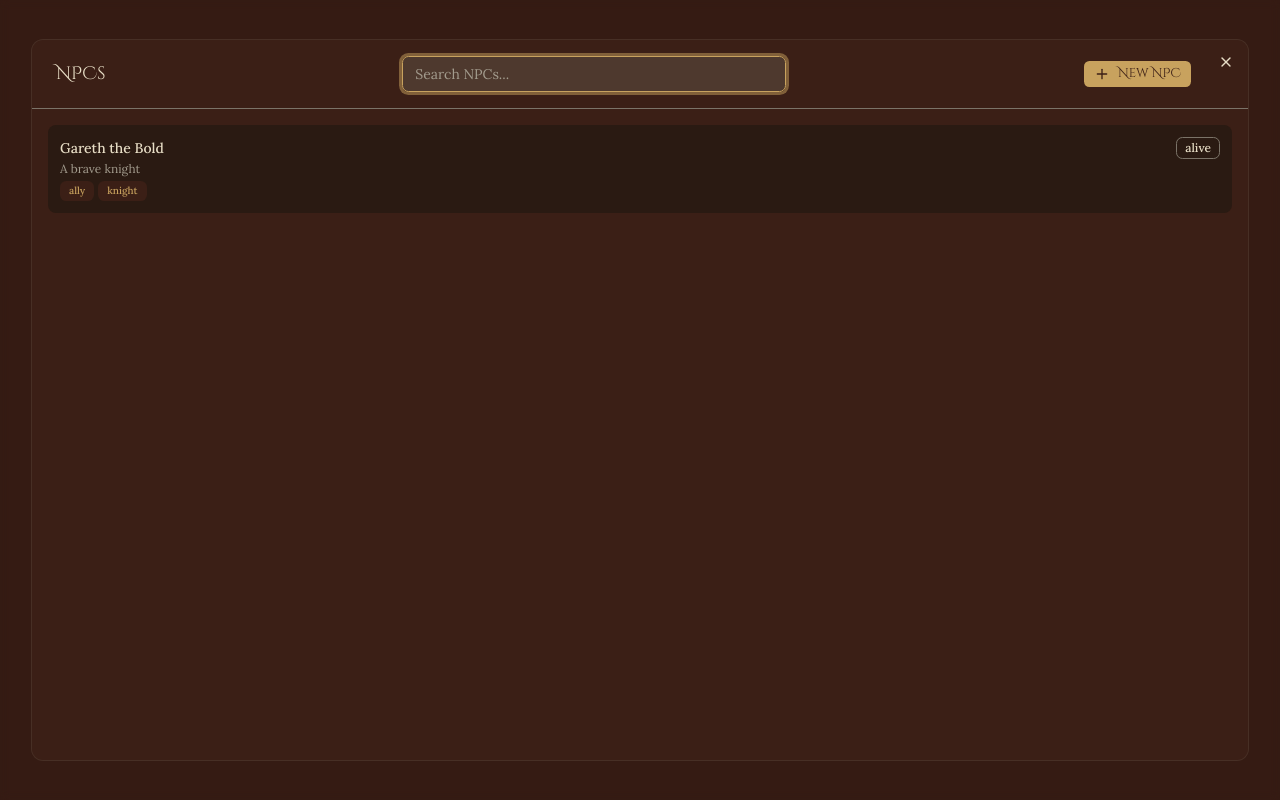
Test: NpcModal › NPC Detail - Tabs › switches to Relationships tab and shows relations
The image size is (1280, 800).
Click the text "Gareth the Bold" at {"x": 112, "y": 148}, box [60,138,164,158]
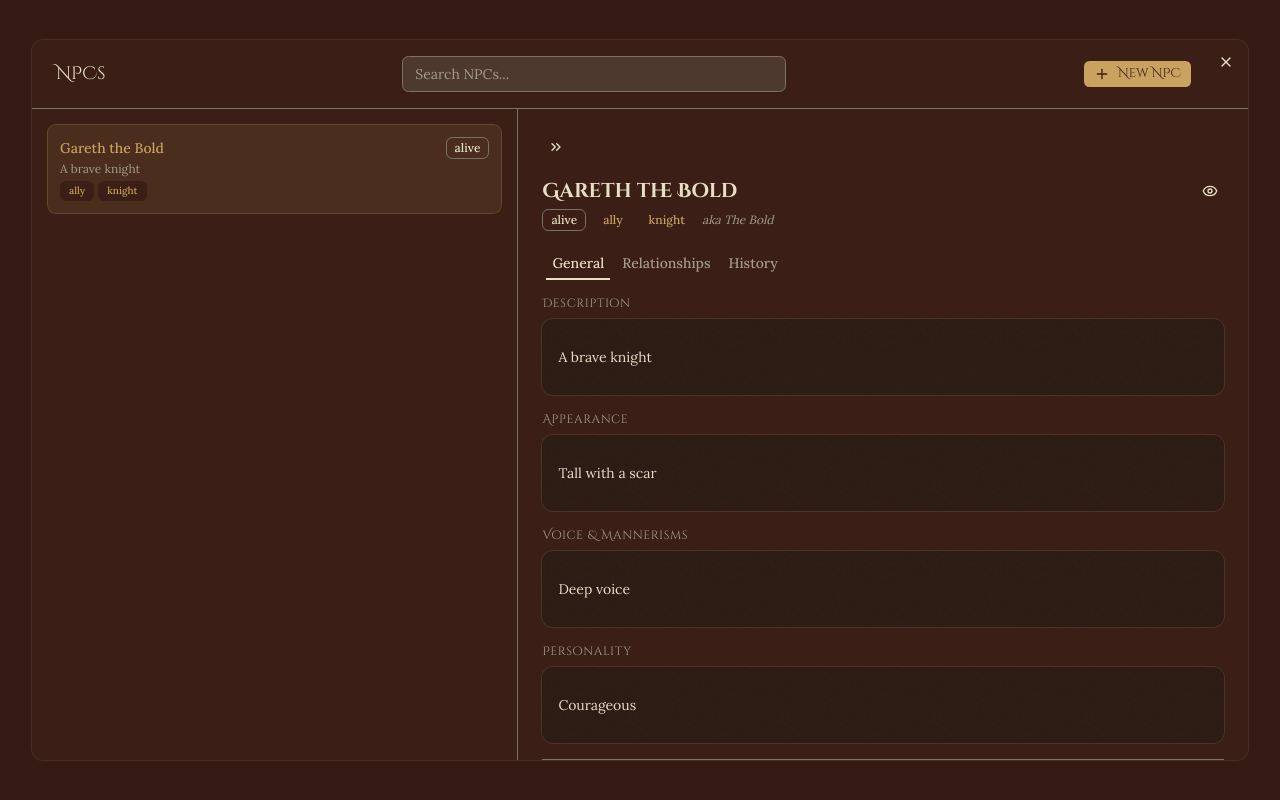
Check: the tab "Relationships" is shown
Click the tab "Relationships" at {"x": 666, "y": 263}, box [615,250,718,276]
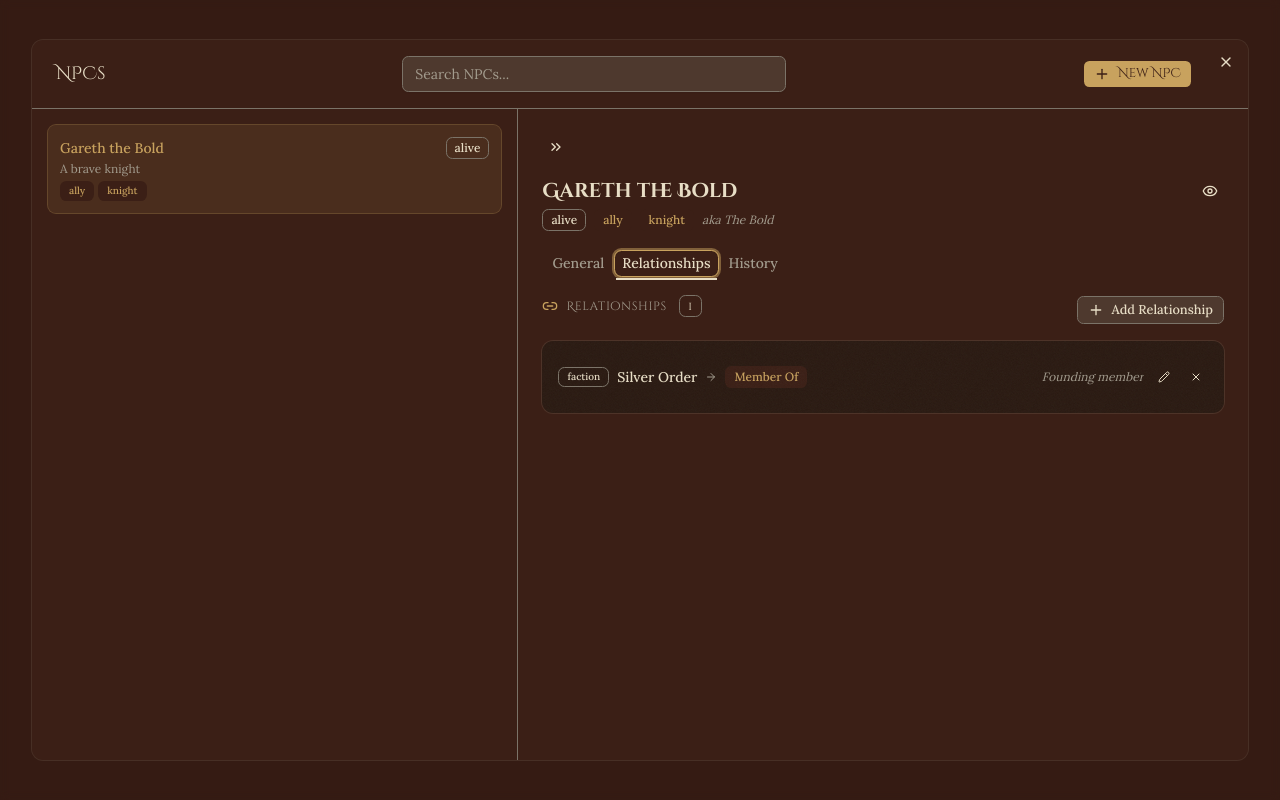
Check: the text "Silver Order" is shown, box [617,367,697,387]
